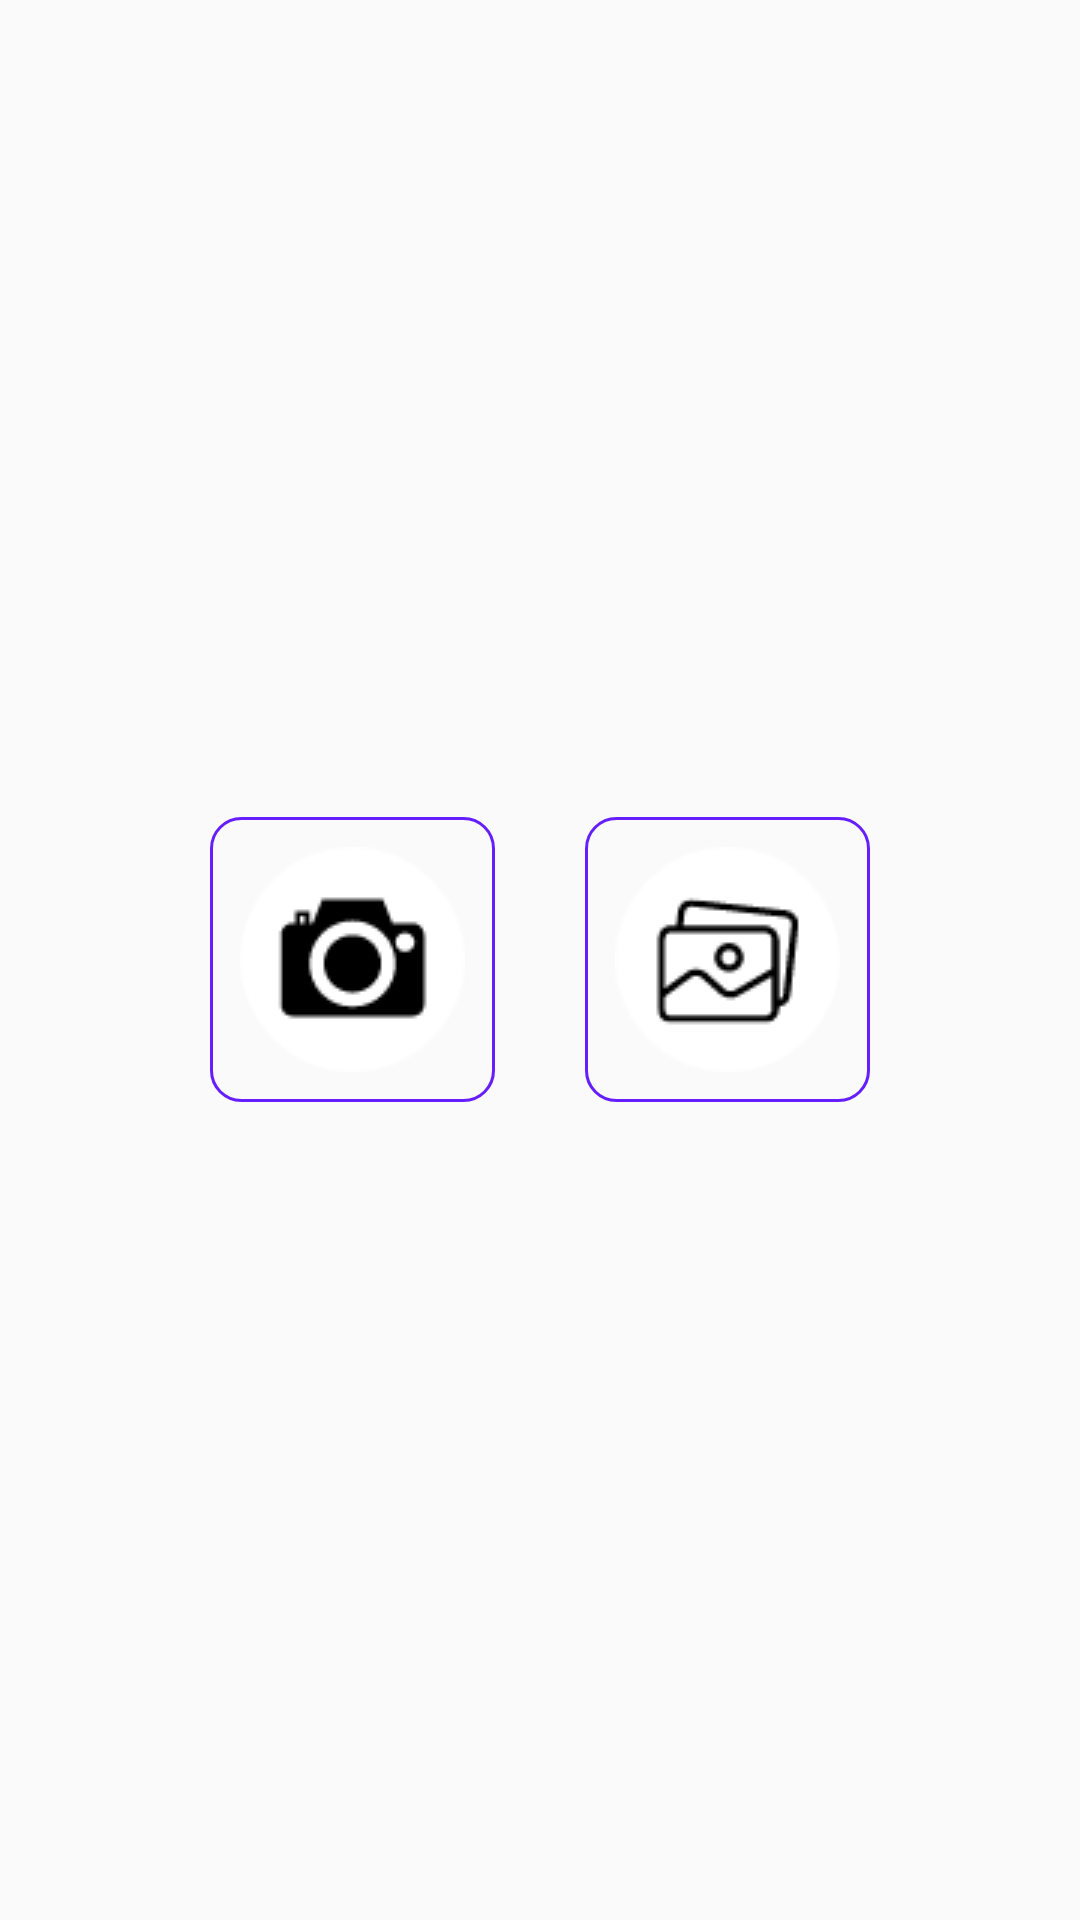

Point at icon controls on the screen. Image size 1080*1920, points as [x,y].
camera: [353,958]
gallery: [727,961]
